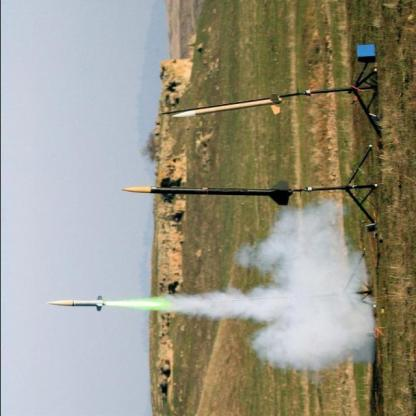MIL_TBM: (122, 181, 293, 209), (170, 92, 282, 120), (44, 296, 105, 312)
